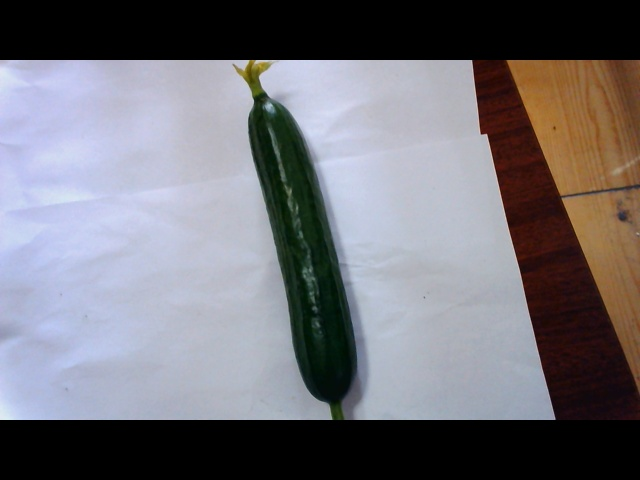cucumber: (234, 70, 370, 419)
